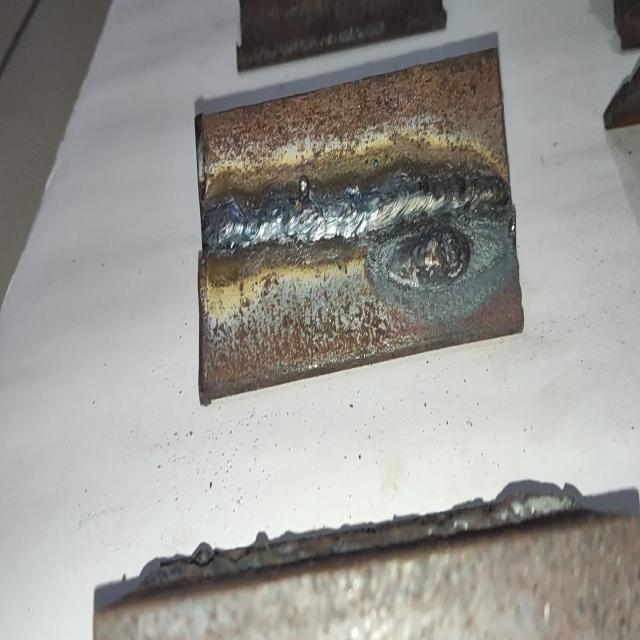Bad Weld: (206, 164, 505, 239)
Defect: (381, 139, 485, 304), (287, 167, 321, 206)
